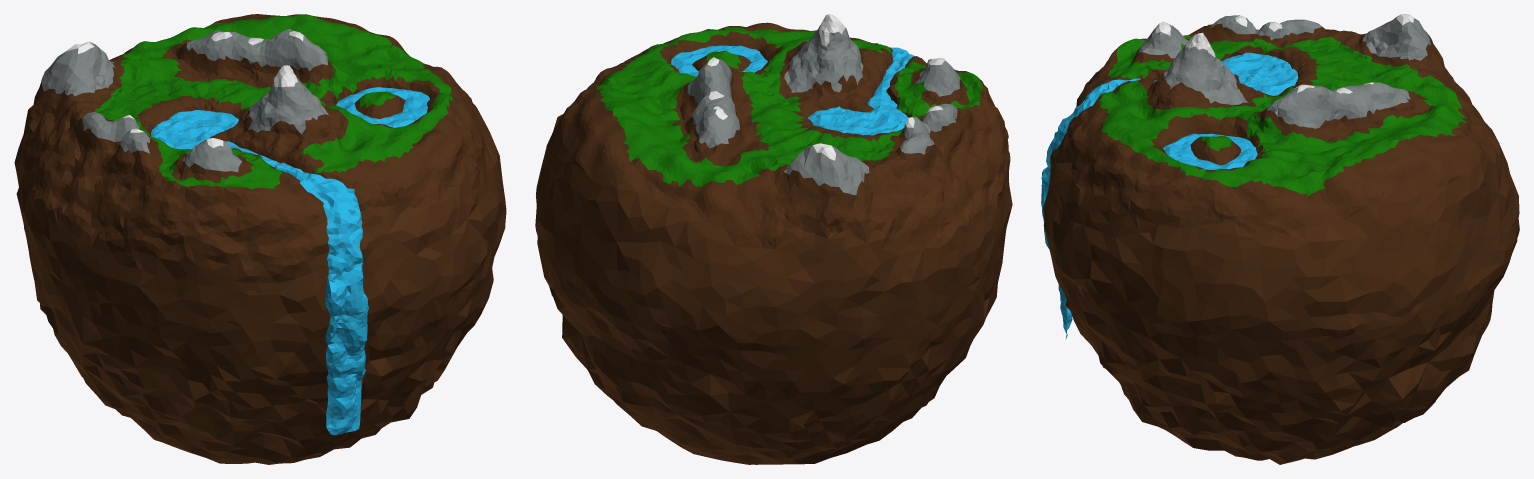
Rendered from Hauptwelt1.fbx.
3 views of the same model, side by side, from view 1: azimuth 30°, elevation 25°; view 2: azimuth 150°, elevation 25°; view 3: azimuth 270°, elevation 25° (orthographic). The views are drawn at different scales.
Visible parts, largest first — view 1: Icosphere, Plane; view 2: Icosphere, Plane; view 3: Icosphere, Plane.
Part boxes in pixels (<box>): Icosphere: <box>14,14,506,464</box>; Plane: <box>151,87,429,435</box>; Icosphere: <box>535,14,1012,464</box>; Plane: <box>671,45,914,135</box>; Icosphere: <box>1043,14,1519,464</box>; Plane: <box>1041,52,1298,338</box>.
Size of the model in its own units: 77374 by 72062 by 77584.
